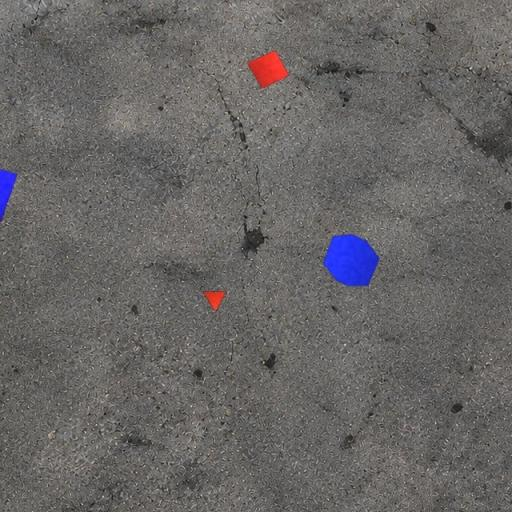RED_SQUARE: (246, 50, 290, 88)
